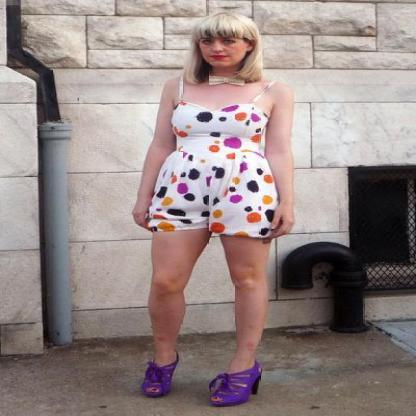dress: (132, 102, 276, 244)
shoe: (141, 358, 261, 406)
